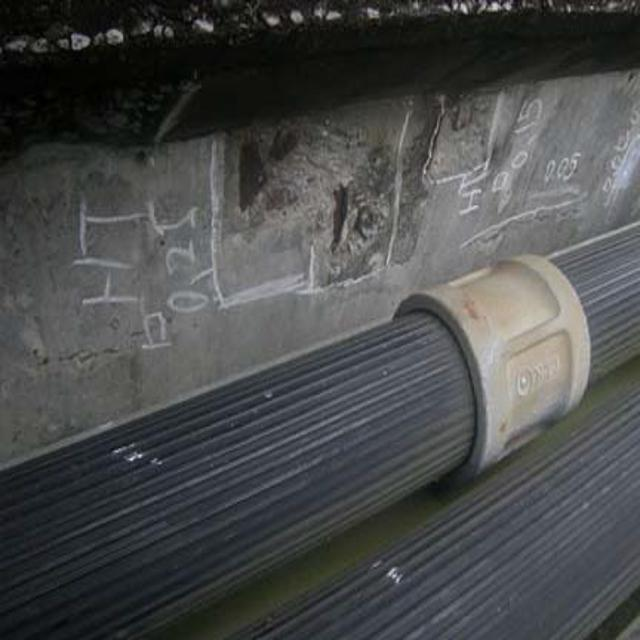spalling: (226, 103, 403, 278)
